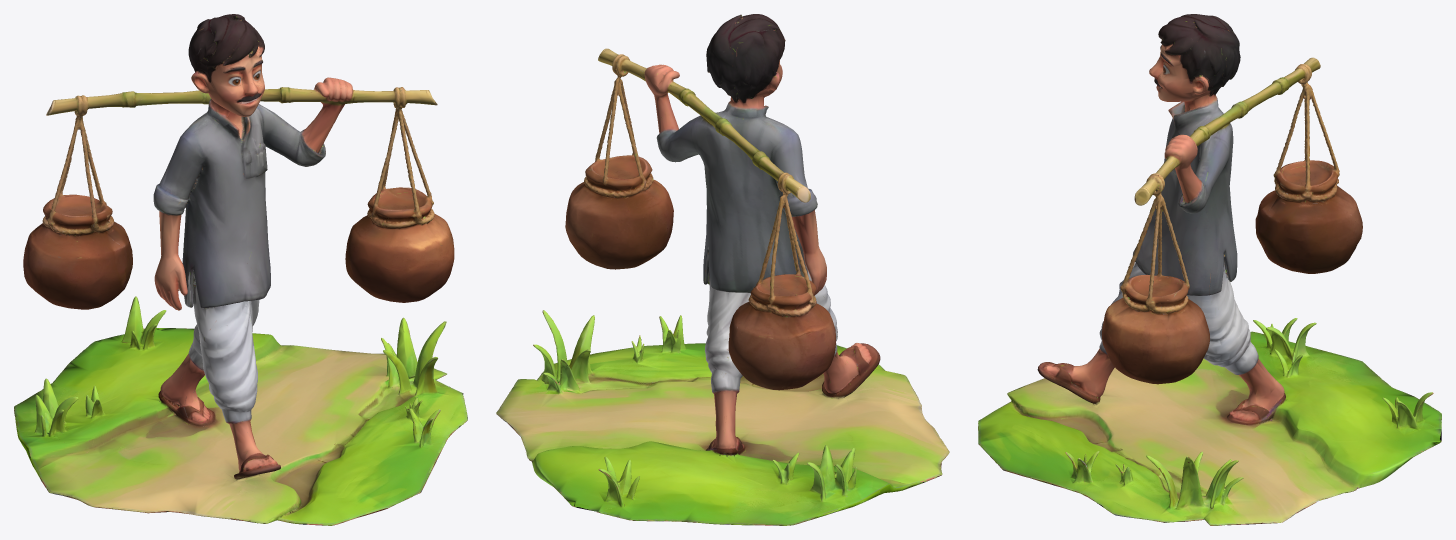
The model's file is farmer3.glb.
3 renders of one model, left to right at view 1: azimuth 30°, elevation 25°; view 2: azimuth 150°, elevation 25°; view 3: azimuth 270°, elevation 25°, orthographic. The views are drawn at different scales.
Visible parts, largest first — view 1: Mesh1.0; view 2: Mesh1.0; view 3: Mesh1.0.
Part boxes in pixels (x1,y1,x2,y2): Mesh1.0: (14,14,467,525); Mesh1.0: (496,14,949,525); Mesh1.0: (978,14,1441,525).
Bounding box in the file's own units: 1.9 × 1.87 × 1.91.
Materials: 1 (1 with a texture image).
